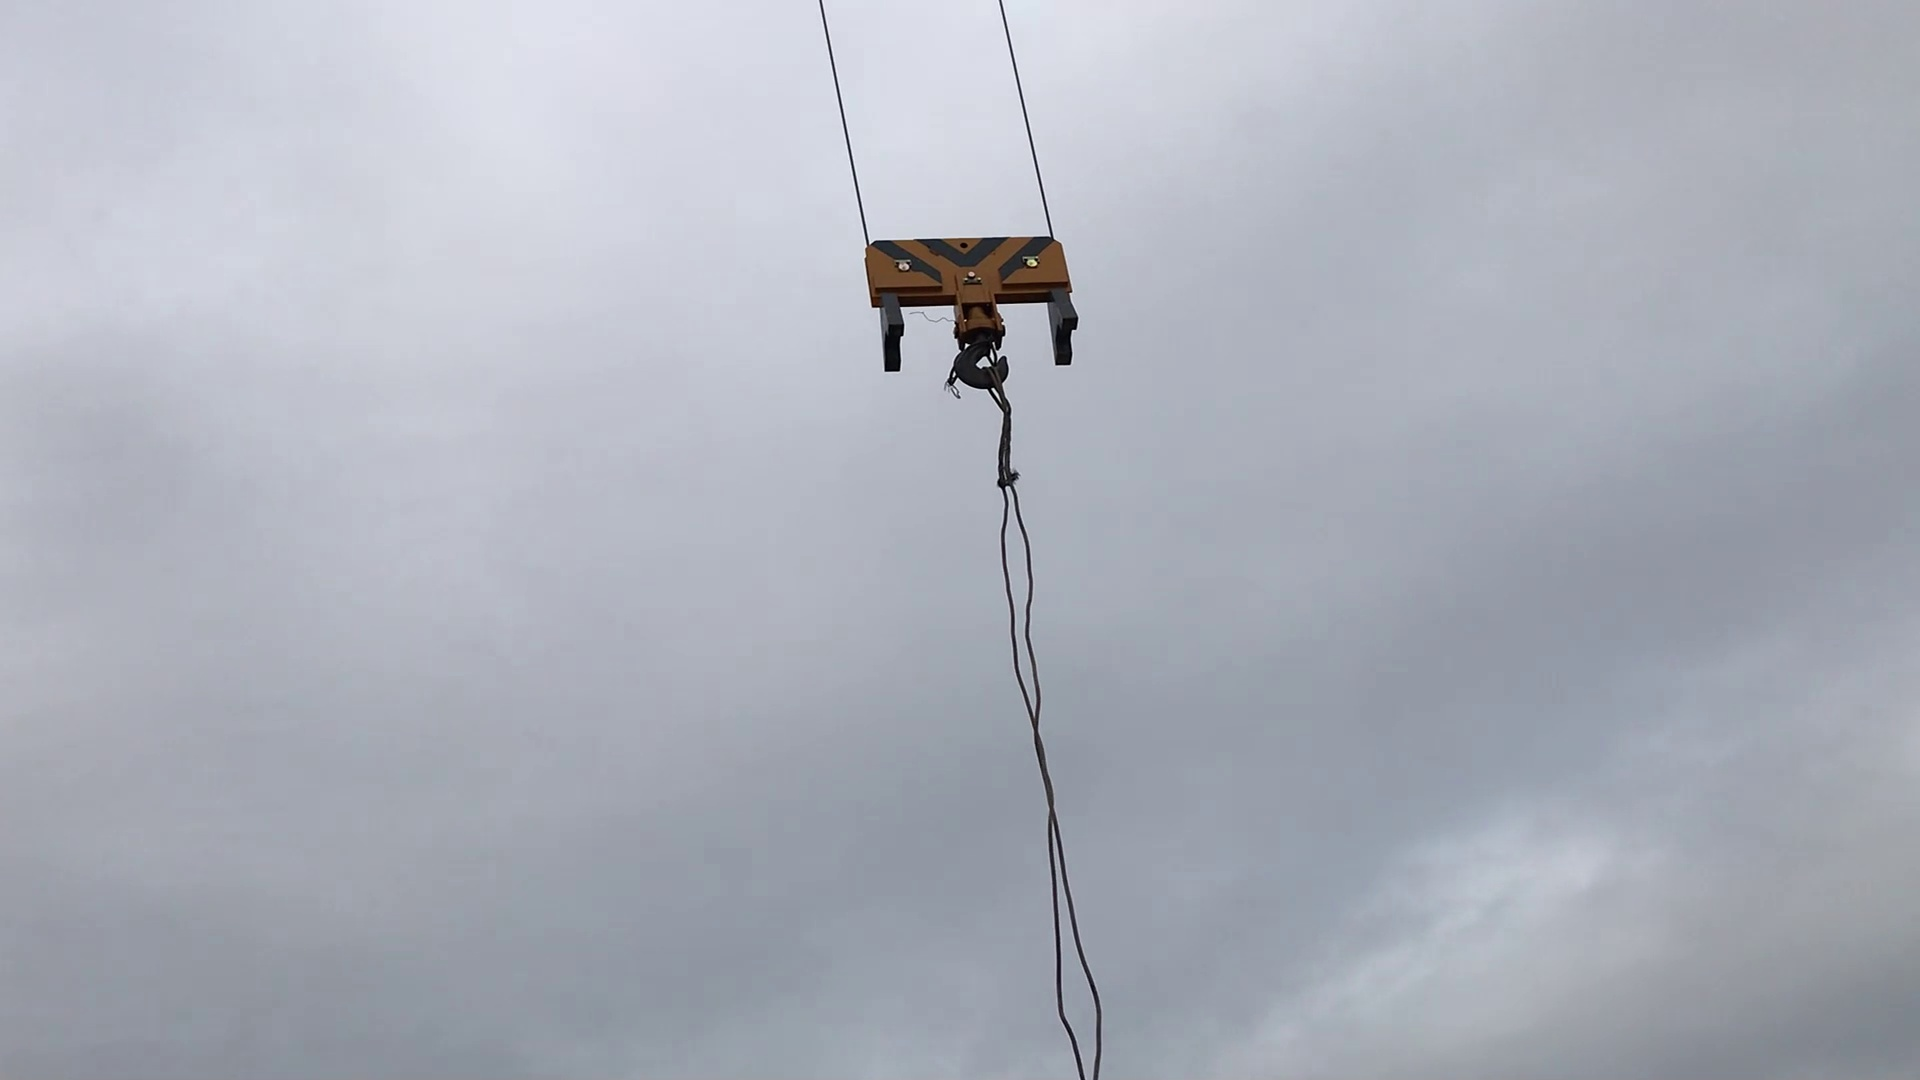hook: (832, 223, 1120, 433)
